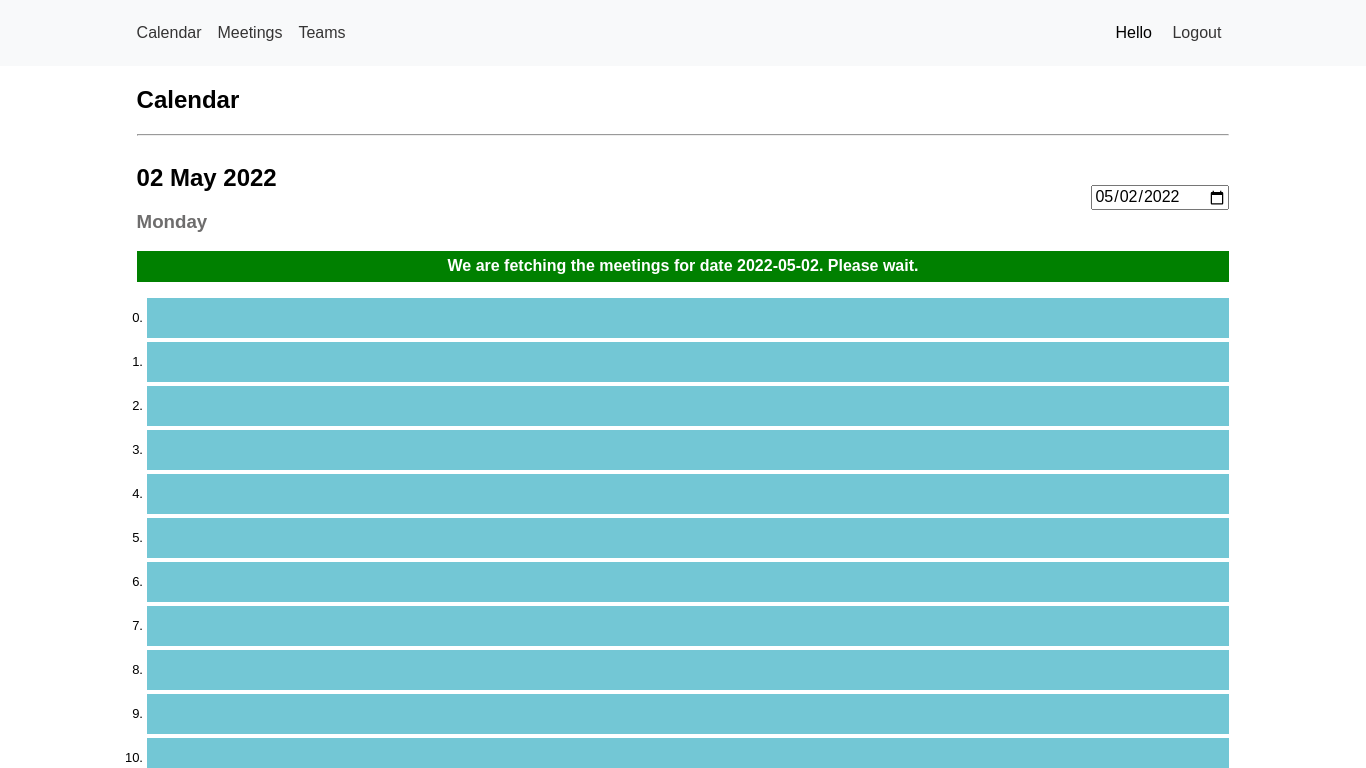
Test: should fetch and load the initial set of meetings from the server
Type "2022-02-14" into the date field named "select date to get meetings".
click(1160, 198); type("2022-02-14")  # box x1=1091 y1=185 x2=1229 y2=210
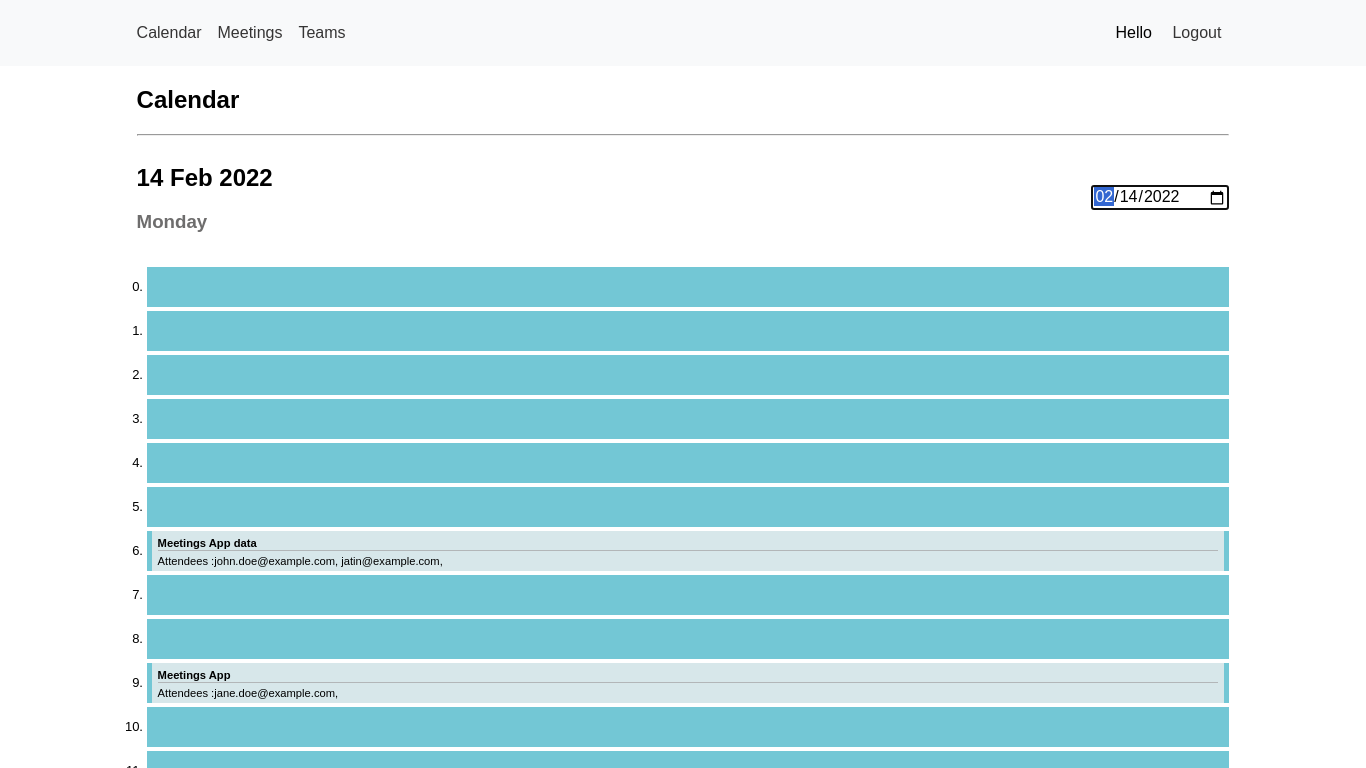
Check: the text "Meetings App data" is shown, box x1=158 y1=537 x2=1218 y2=551
Check: the text "Meetings App" is shown, box x1=158 y1=669 x2=1218 y2=683
